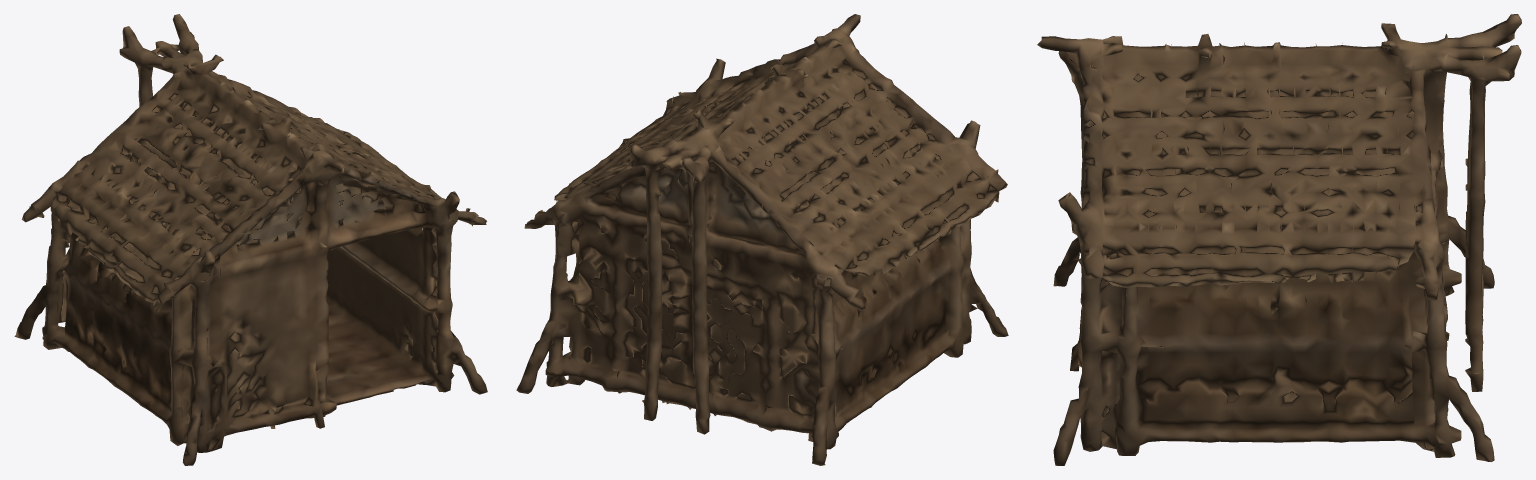
The model's file is haus_bambus.glb.
The picture shows the model from 3 angles, left to right: view 1: azimuth 30°, elevation 25°; view 2: azimuth 150°, elevation 25°; view 3: azimuth 270°, elevation 25°; orthographic projection. The views are drawn at different scales.
Size of the model in its own units: 1.84 by 1.49 by 1.88.
